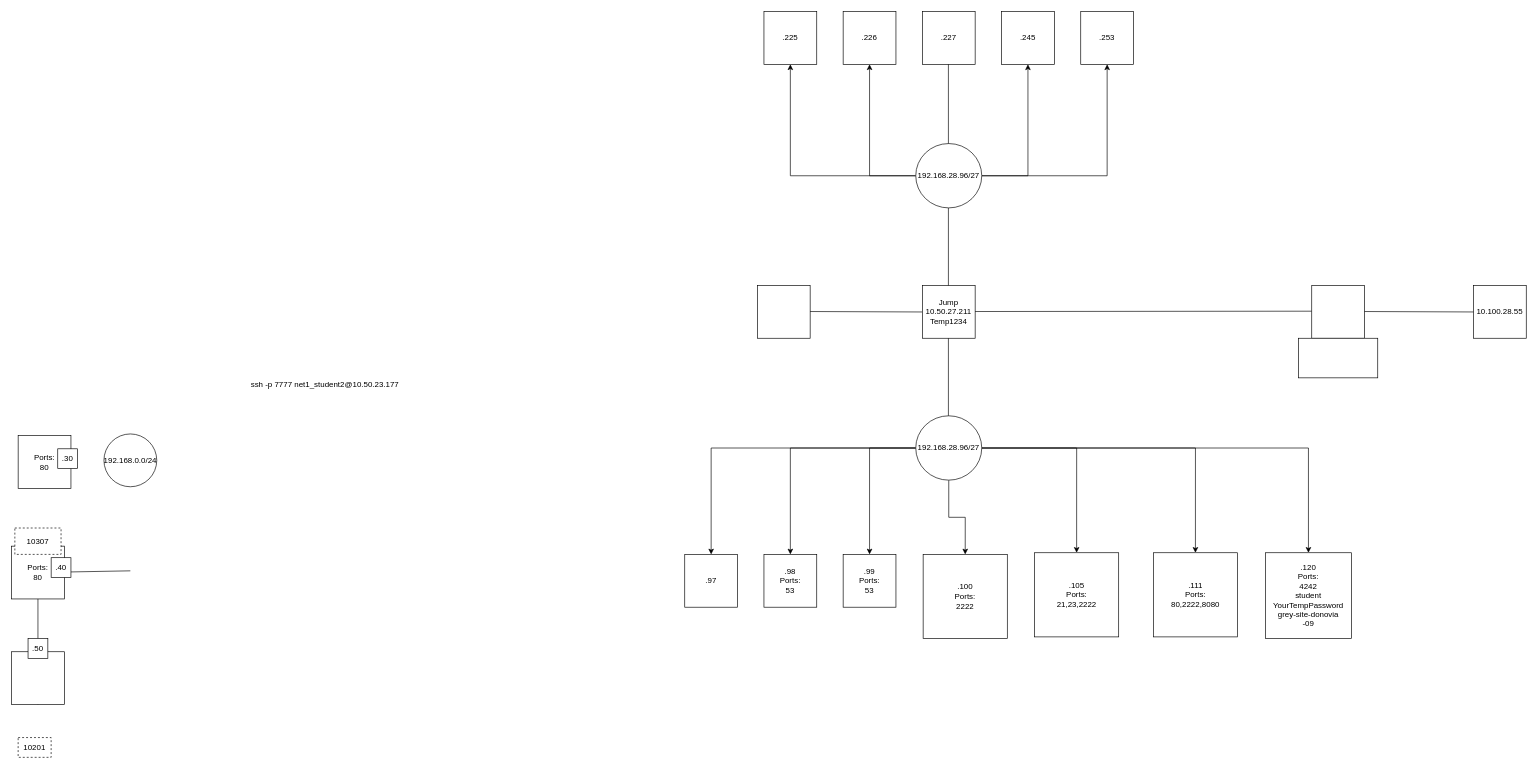
The diagram is 1538 pixels wide and 769 high, and some of its shapes have lost their labels. The centre of each missing label's shape, as x and y in pixels:
10.100.28.40 Ports: 80,4444: point (1338, 311)
Lin-Ops 10.50.24.211 password: point (783, 311)
Ports: 21,22,80: point (37, 678)
